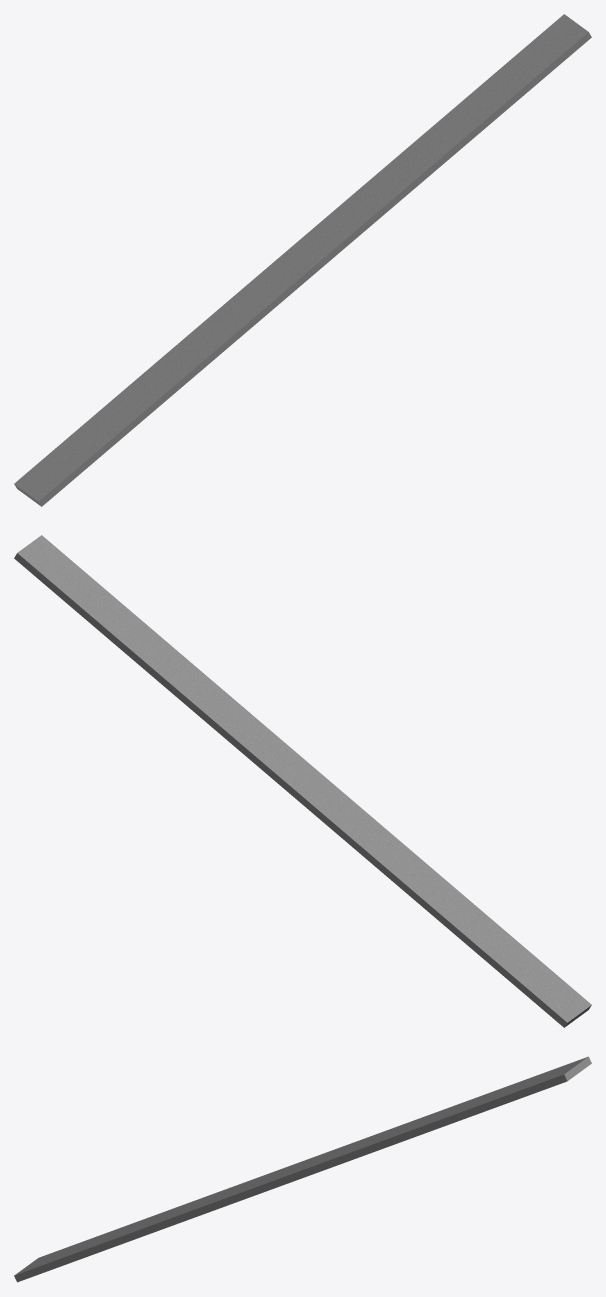
Rendered from zcb005-geode.glb.
The picture shows the model from 3 angles, top to bottom: view 1: azimuth 30°, elevation 25°; view 2: azimuth 150°, elevation 25°; view 3: azimuth 330°, elevation 25°; orthographic projection.
Visible parts, largest first — view 1: Node; view 2: Node; view 3: Node.
Boxes of the visible parts, x1,y1,x2,y2 form: Node: (14, 14, 591, 506); Node: (14, 535, 591, 1027); Node: (14, 1056, 591, 1282).
Size of the model in its own units: 2.72 by 1.61 by 0.2089.
1 material, 1 textured.
